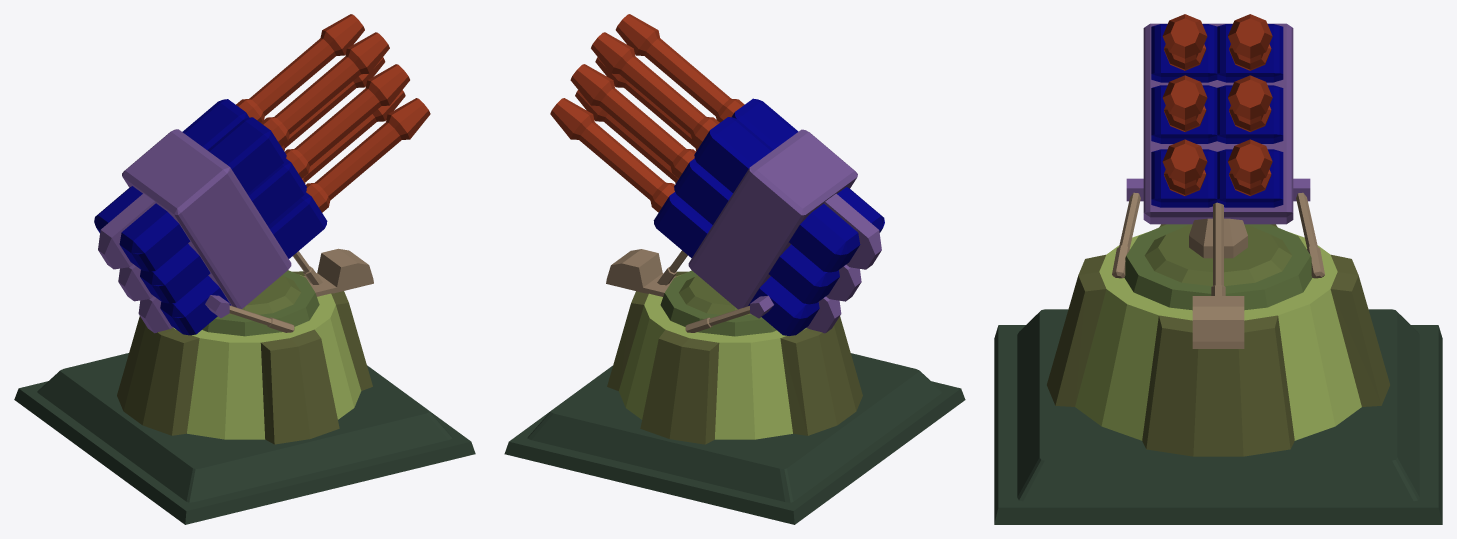
Rendered from Cannon-RR-5.fbx.
3 views of the same model, side by side, from view 1: azimuth 30°, elevation 25°; view 2: azimuth 150°, elevation 25°; view 3: azimuth 270°, elevation 25° (orthographic). The views are drawn at different scales.
Visible parts, largest first — view 1: russien_6:base, russien_2:attack; view 2: russien_6:base, russien_2:attack; view 3: russien_6:base, russien_2:attack.
Boxes of the visible parts, x1,y1,x2,y2 form: russien_6:base: (14,270,475,524); russien_2:attack: (94,14,430,335); russien_6:base: (504,270,965,524); russien_2:attack: (550,14,884,335); russien_6:base: (994,224,1442,524); russien_2:attack: (1112,14,1324,348).
Size of the model in its own units: 2261 by 2560 by 2121.
